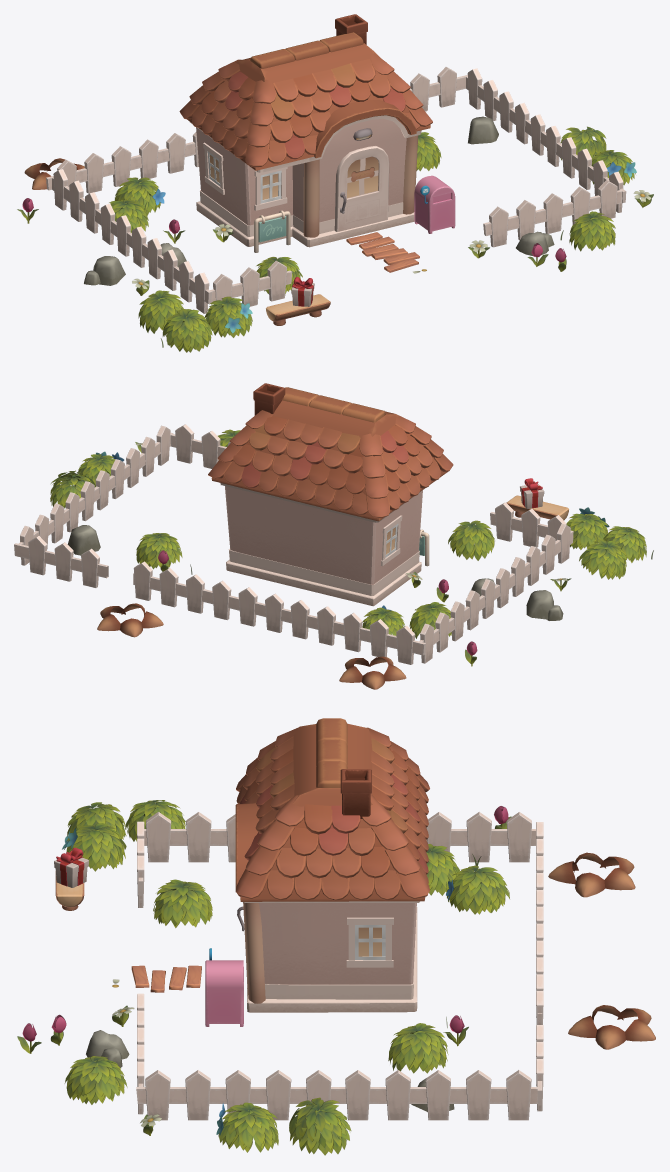
The model's file is ac-house-notree.glb.
The picture shows the model from 3 angles, top to bottom: view 1: azimuth 30°, elevation 25°; view 2: azimuth 150°, elevation 25°; view 3: azimuth 270°, elevation 25°; orthographic projection. The views are drawn at different scales.
Parts seen in each view (by area): view 1: base, roof_base, roof_corner, door_M_ATLAS_1_0, r_tile_c19, pilares, mailbox2, body, rock4_pCube20, rock4_pCube22, fence, fence25 (+17 smaller); view 2: base, roof_corner, roof_base, r_tile_c19, pCone16, pCone15, chimney, rock4_pCube22, rock4_pCube20, body, fence29_M_ATLAS_2_0.002, fence33 (+18 smaller); view 3: base, r_tile_c19, roof_corner, roof_base, mailbox2, pCone16, pCone15, pilares, chimney, fence28, fence24_M_ATLAS_2_0.003, fence32 (+16 smaller).
Part boxes in pixels (x1,y1,x2,y2): base: [189, 115, 421, 247]; roof_base: [187, 43, 430, 170]; roof_corner: [179, 53, 432, 167]; door_M_ATLAS_1_0: [334, 146, 389, 231]; r_tile_c19: [192, 62, 386, 158]; pilares: [303, 135, 418, 237]; mailbox2: [414, 175, 455, 233]; body: [266, 294, 330, 321]; rock4_pCube20: [93, 256, 125, 285]; rock4_pCube22: [468, 116, 498, 144]; fence: [489, 206, 508, 247]; fence25: [543, 193, 563, 233]; base: [220, 483, 423, 606]; roof_corner: [208, 410, 453, 518]; roof_base: [211, 400, 447, 521]; r_tile_c19: [380, 425, 440, 510]; pCone16: [339, 656, 406, 689]; pCone15: [97, 603, 163, 637]; chimney: [253, 383, 285, 415]; rock4_pCube22: [67, 525, 100, 555]; rock4_pCube20: [526, 590, 553, 619]; body: [506, 495, 568, 520]; fence29_M_ATLAS_2_0.002: [238, 587, 257, 626]; fence33: [28, 536, 47, 575]; base: [243, 901, 419, 1012]; r_tile_c19: [267, 804, 400, 900]; roof_corner: [236, 727, 430, 898]; roof_base: [235, 723, 425, 901]; mailbox2: [205, 960, 243, 1026]; pCone16: [548, 852, 635, 897]; pCone15: [568, 1005, 655, 1049]; pilares: [243, 902, 265, 1003]; chimney: [340, 769, 371, 818]; fence28: [345, 1070, 370, 1120]; fence24_M_ATLAS_2_0.003: [186, 812, 211, 862]; fence32: [506, 1070, 531, 1120].
Size of the model in its own units: 0.1492 by 0.0498 by 0.1212.
Materials: 4 (4 with a texture image).
